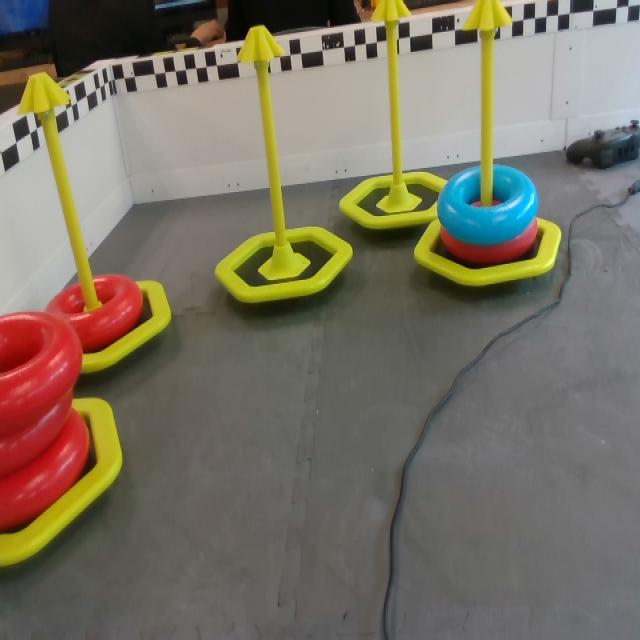Blue-Ring: (437, 158, 541, 241)
Mobile-Goal: (16, 69, 176, 380), (407, 1, 565, 289), (212, 21, 361, 305), (336, 0, 452, 229), (0, 398, 131, 571)
Red-Ring: (0, 408, 94, 534), (1, 305, 80, 436), (48, 272, 143, 347), (0, 390, 75, 481), (438, 222, 541, 264)
Yellow-Stake-Head: (17, 72, 72, 115), (237, 25, 283, 62), (461, 0, 512, 31), (371, 0, 412, 22)
